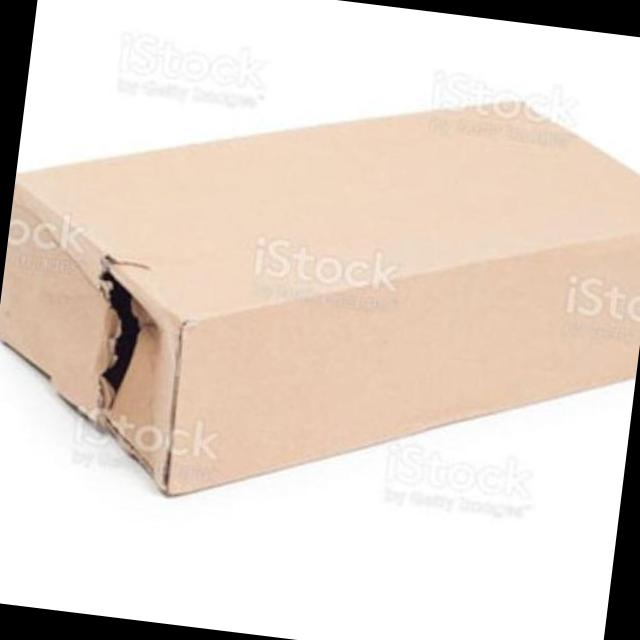box: (1, 99, 640, 503)
tear: (94, 255, 148, 424)
